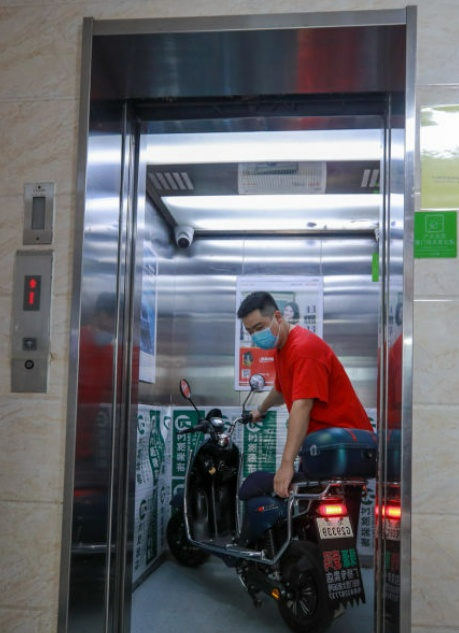ebike: (173, 380, 373, 633)
person: (230, 293, 365, 464)
